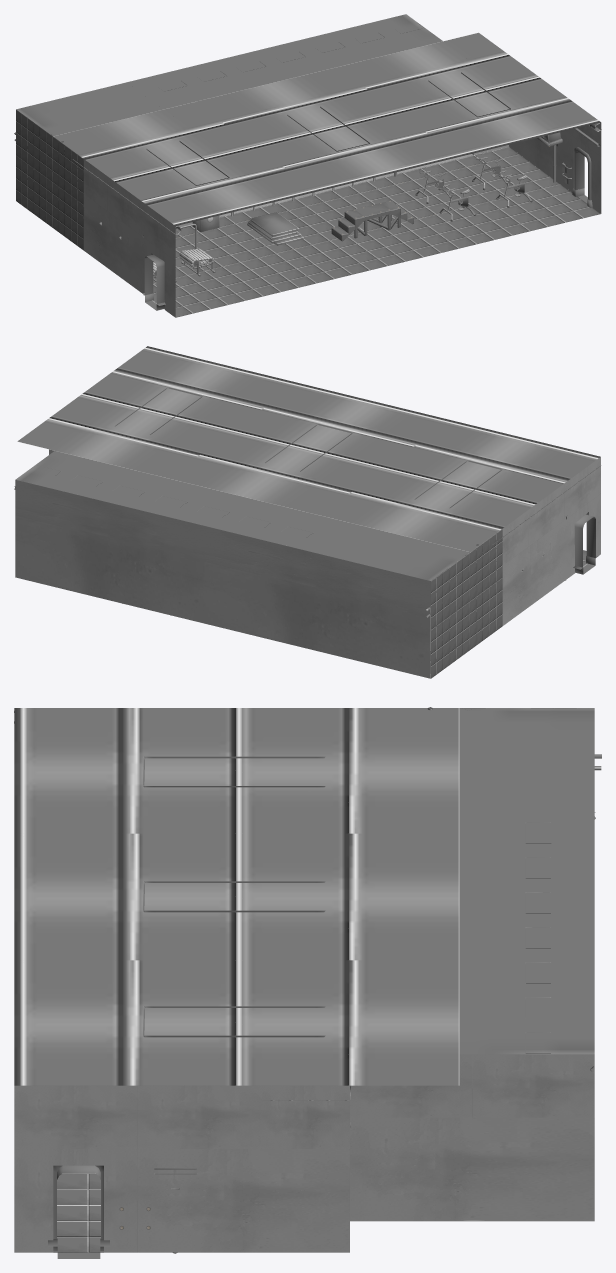
The model's file is MSH_endurance_room_L2_R3_optimized.fbx.
The picture shows the model from 3 angles, top to bottom: view 1: azimuth 30°, elevation 25°; view 2: azimuth 150°, elevation 25°; view 3: azimuth 270°, elevation 25°; orthographic projection. The views are drawn at different scales.
Parts seen in each view (by area): view 1: lightmap0, lightmap1, lightmap-1; view 2: lightmap0, lightmap-1, lightmap1; view 3: lightmap0, lightmap1.
Boxes of the visible parts, x1=… form: lightmap0: x1=14, y1=14, x2=601, y2=317; lightmap1: x1=99, y1=23, x2=571, y2=281; lightmap-1: x1=144, y1=151, x2=587, y2=310; lightmap0: x1=14, y1=346, x2=601, y2=678; lightmap-1: x1=574, y1=514, x2=595, y2=574; lightmap1: x1=30, y1=387, x2=566, y2=580; lightmap0: x1=14, y1=707, x2=601, y2=1253; lightmap1: x1=119, y1=756, x2=550, y2=1229.
Size of the model in its own units: 30.91 by 6.28 by 19.68.
